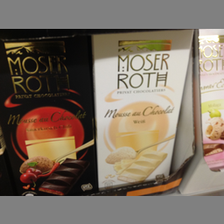chocolate: (89, 29, 194, 191), (2, 31, 94, 196)
